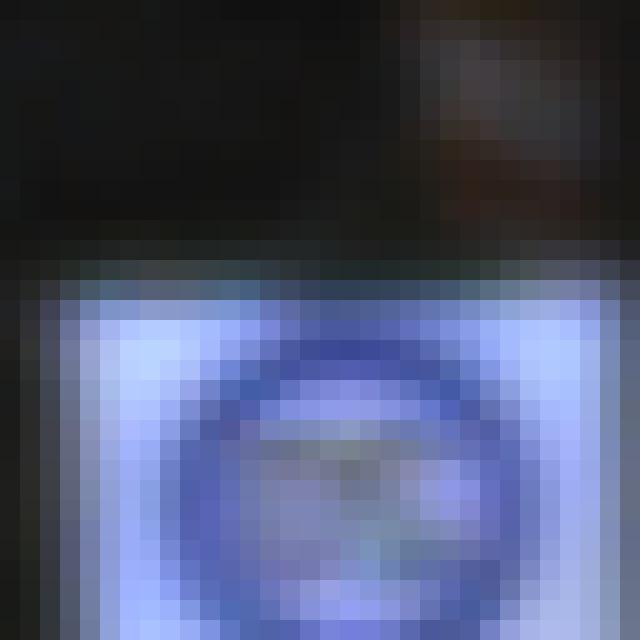SPEED LIMIT 20: (157, 359, 516, 636)
